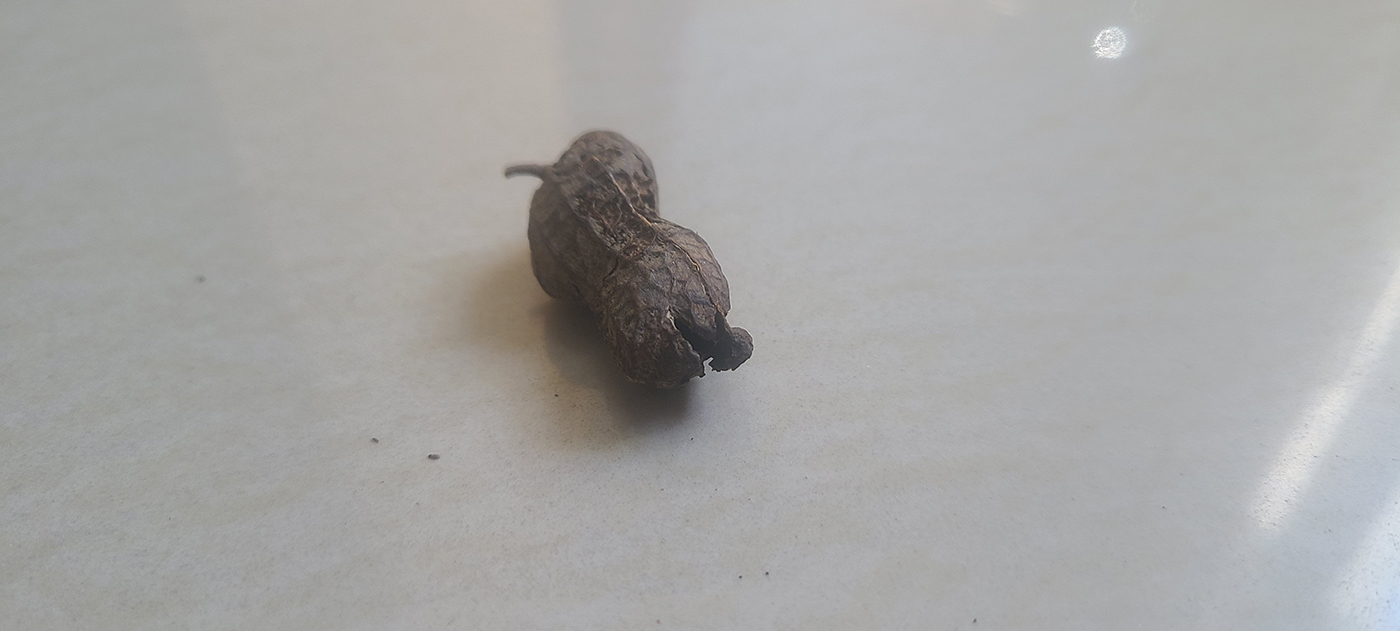l: (526, 128, 755, 393)
